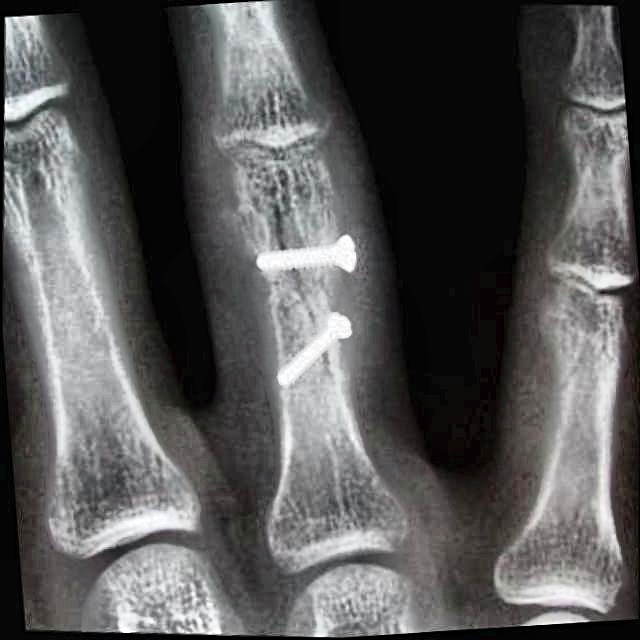Oblique Displaced: (254, 203, 337, 393)
